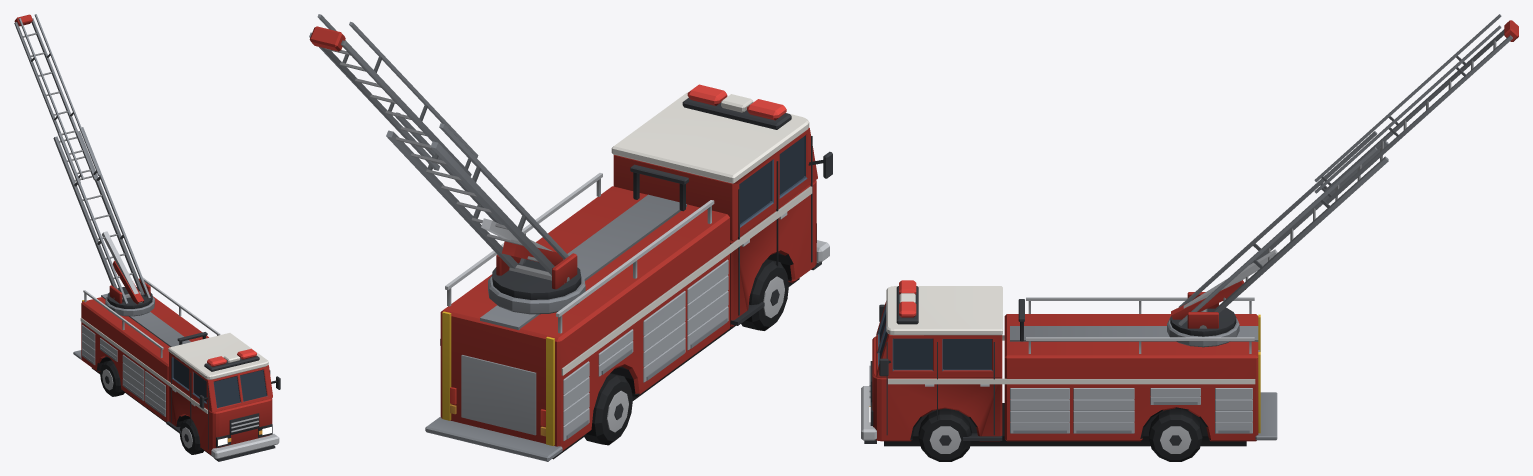
The model's file is fire-engine.glb.
3 renders of one model, left to right at view 1: azimuth 30°, elevation 25°; view 2: azimuth 150°, elevation 25°; view 3: azimuth 270°, elevation 25°, orthographic. The views are drawn at different scales.
Visible parts, largest first — view 1: FireEngine, Ladder; view 2: FireEngine, Ladder; view 3: FireEngine, Ladder.
Boxes of the visible parts, x1,y1,x2,y2 form: FireEngine: [73, 277, 280, 461]; Ladder: [14, 14, 152, 308]; FireEngine: [425, 84, 832, 461]; Ladder: [309, 14, 581, 299]; FireEngine: [861, 280, 1277, 461]; Ladder: [1170, 14, 1518, 336].
Size of the model in its own units: 1.67 by 5.89 by 8.34.
